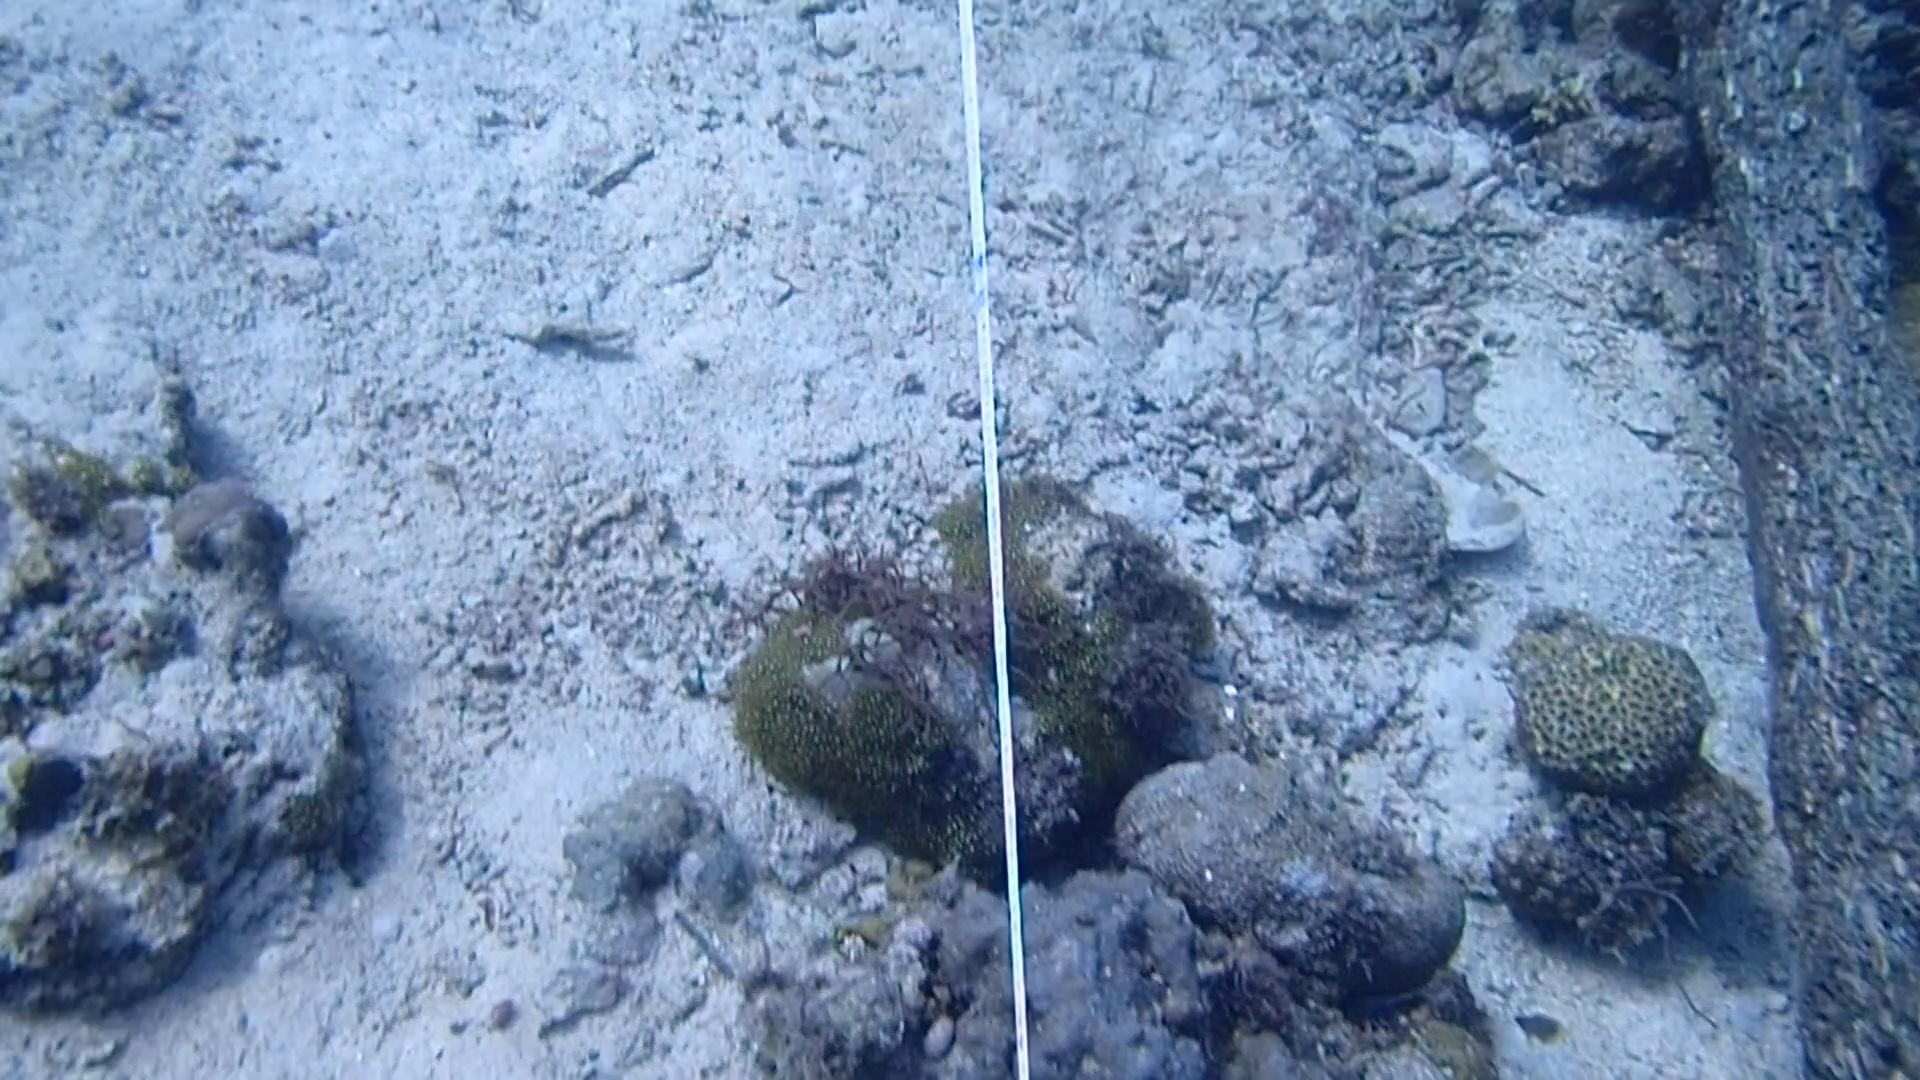UI: (1507, 1005, 1568, 1054)
